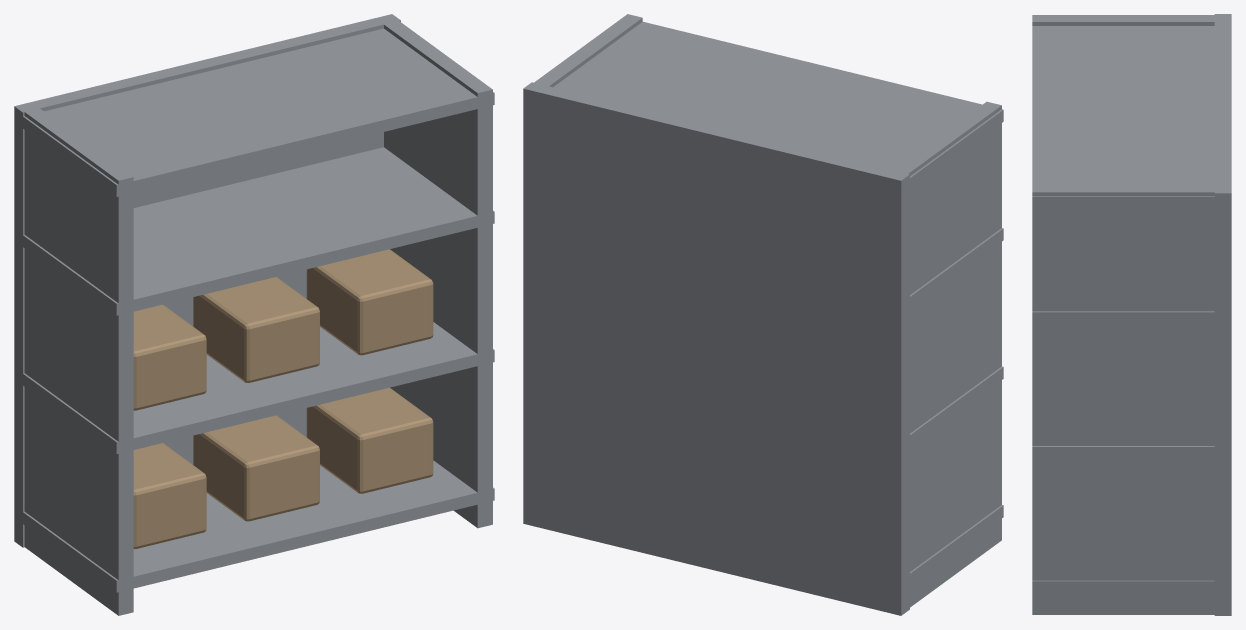
The model's file is prop_shelf.glb.
The picture shows the model from 3 angles, left to right: view 1: azimuth 30°, elevation 25°; view 2: azimuth 150°, elevation 25°; view 3: azimuth 270°, elevation 25°; orthographic projection. The views are drawn at different scales.
Visible parts, largest first — view 1: prop_shelf; view 2: prop_shelf; view 3: prop_shelf.
Part boxes in pixels (bbox=[...]): prop_shelf: bbox=[14, 14, 494, 615]; prop_shelf: bbox=[523, 14, 1003, 615]; prop_shelf: bbox=[1032, 14, 1231, 615].
Size of the model in its own units: 2 by 2.2 by 0.94.
